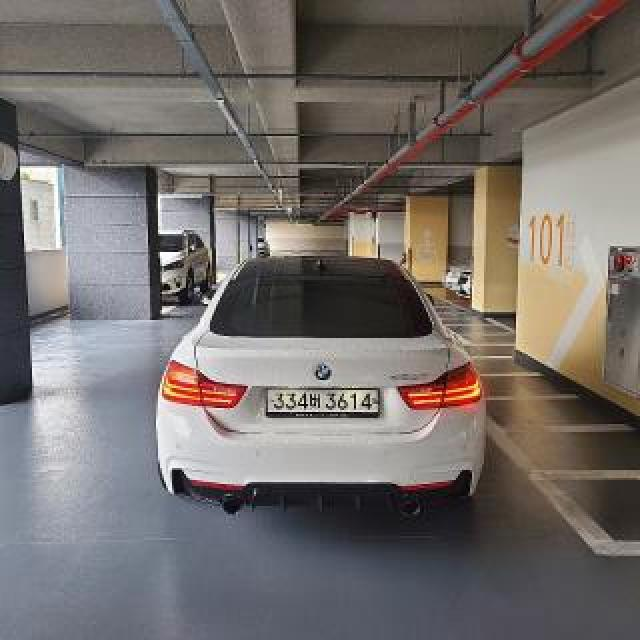car: (148, 246, 496, 519)
illegal_plate: (268, 384, 381, 417)
